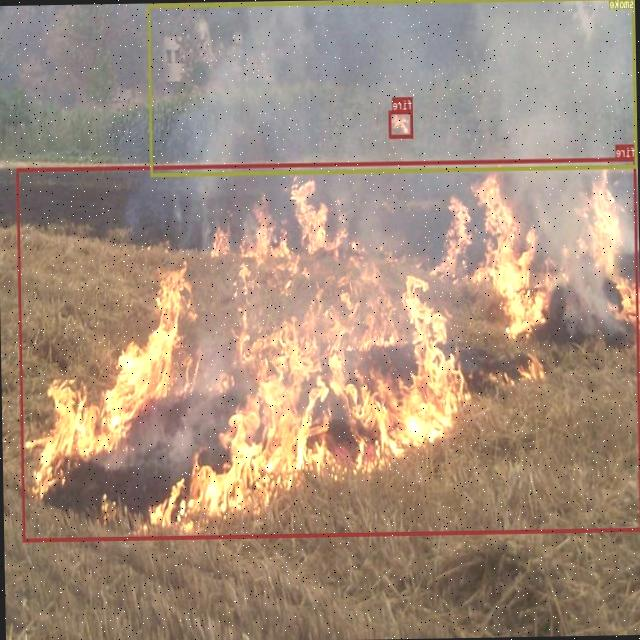fire: (16, 156, 640, 541), (389, 110, 413, 138)
smoke: (148, 0, 637, 175)
